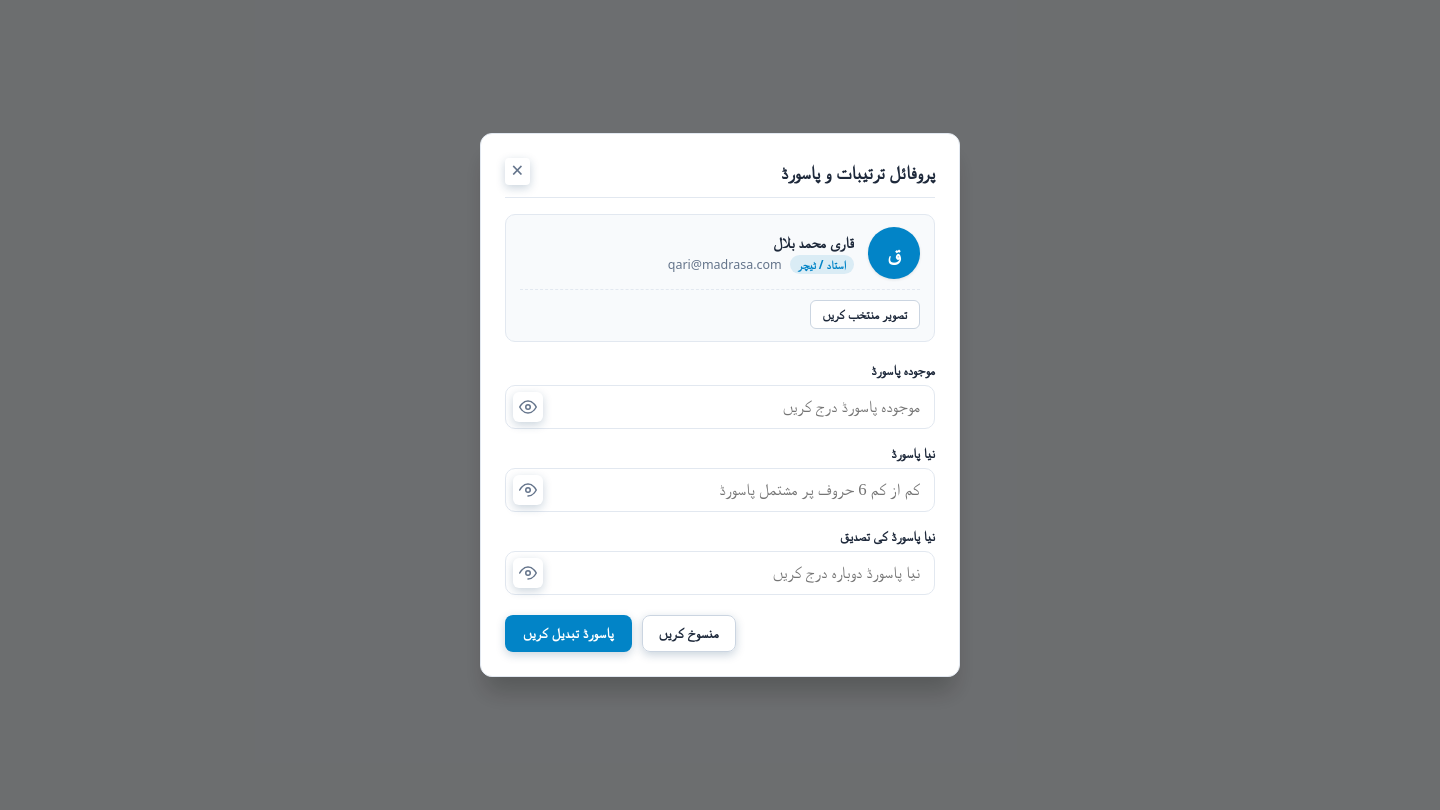
Test case: ProfileModal Component › validates required password fields client-side before submission
The width and height of the screenshot is (1440, 810).
Click the button "پاسورڈ تبدیل کریں" at coordinates (568, 633), box x1=505 y1=614 x2=632 y2=652
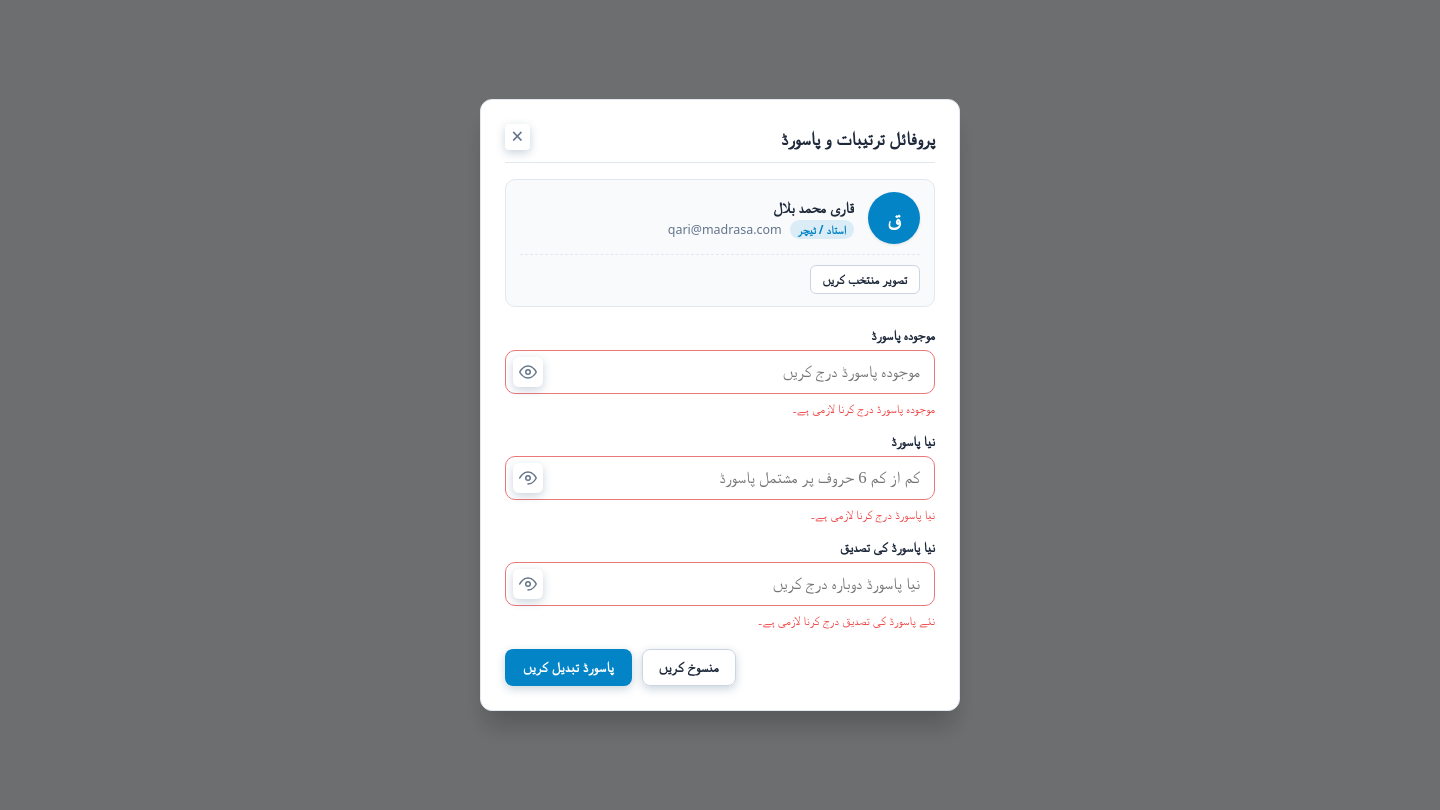
Expected: the text "موجودہ پاسورڈ درج کرنا لازمی ہے۔" is shown, x1=792 y1=400 x2=935 y2=417
Expected: the text "نیا پاسورڈ درج کرنا لازمی ہے۔" is shown, x1=810 y1=506 x2=935 y2=523
Expected: the text "نئے پاسورڈ کی تصدیق درج کرنا لازمی ہے۔" is shown, x1=758 y1=612 x2=935 y2=629
